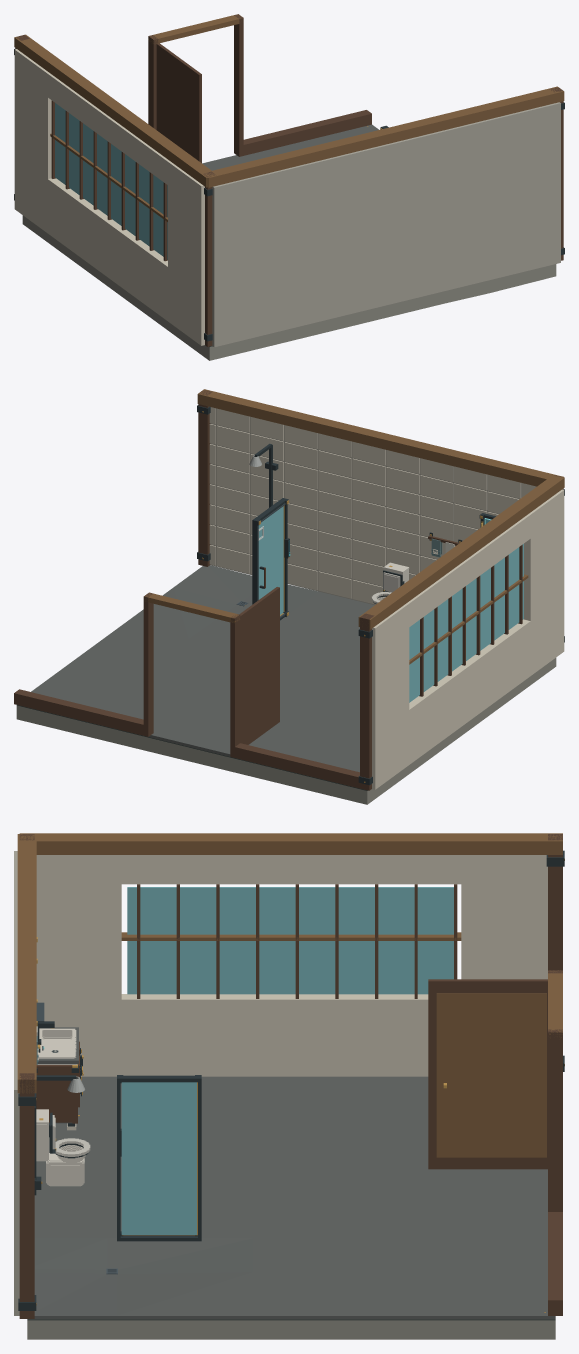
Rendered from visual-far.glb.
3 views of the same model, one above another, from view 1: azimuth 30°, elevation 25°; view 2: azimuth 150°, elevation 25°; view 3: azimuth 270°, elevation 25° (orthographic). The views are drawn at different scales.
Parts seen in each view (by area): view 1: 真实窗洞、木梁与切角房间墙, 真排水孔、独立防水层与连续淋浴坡面, 刚体隐私门叶与门柄, 隐私门实际门框; view 2: 真实窗洞、木梁与切角房间墙, 真排水孔、独立防水层与连续淋浴坡面, 刚体隐私门叶与门柄, 淋浴隔屏, 隐私门实际门框, 卫生间坐便器; view 3: 真实窗洞、木梁与切角房间墙, 真排水孔、独立防水层与连续淋浴坡面, 刚体隐私门叶与门柄, 淋浴隔屏, 隐私门实际门框, 卫生间坐便器, 洗面下柜实际盆口避让, 洗面盆及龙头, 连续淋浴支架和空心出水口.
Boxes of the visible parts, box(x1,y1,x2,y2) form: 真实窗洞、木梁与切角房间墙: box(14, 34, 564, 347); 真排水孔、独立防水层与连续淋浴坡面: box(22, 124, 556, 360); 刚体隐私门叶与门柄: box(156, 43, 201, 162); 隐私门实际门框: box(148, 14, 243, 155); 真实窗洞、木梁与切角房间墙: box(14, 389, 564, 790); 真排水孔、独立防水层与连续淋浴坡面: box(16, 565, 556, 804); 刚体隐私门叶与门柄: box(239, 587, 279, 744); 淋浴隔屏: box(252, 498, 290, 620); 隐私门实际门框: box(143, 592, 240, 757); 卫生间坐便器: box(371, 562, 409, 604); 真实窗洞、木梁与切角房间墙: box(14, 833, 564, 1318); 真排水孔、独立防水层与连续淋浴坡面: box(27, 1076, 555, 1339); 刚体隐私门叶与门柄: box(428, 979, 547, 1169); 淋浴隔屏: box(117, 1075, 201, 1241); 隐私门实际门框: box(548, 970, 562, 1211); 卫生间坐便器: box(36, 1109, 90, 1186); 洗面下柜实际盆口避让: box(36, 1041, 83, 1130); 洗面盆及龙头: box(37, 1021, 76, 1064); 连续淋浴支架和空心出水口: box(34, 1075, 84, 1195).
Size of the model in its own units: 6.23 by 3.18 by 5.84.
26 materials, 26 textured.
